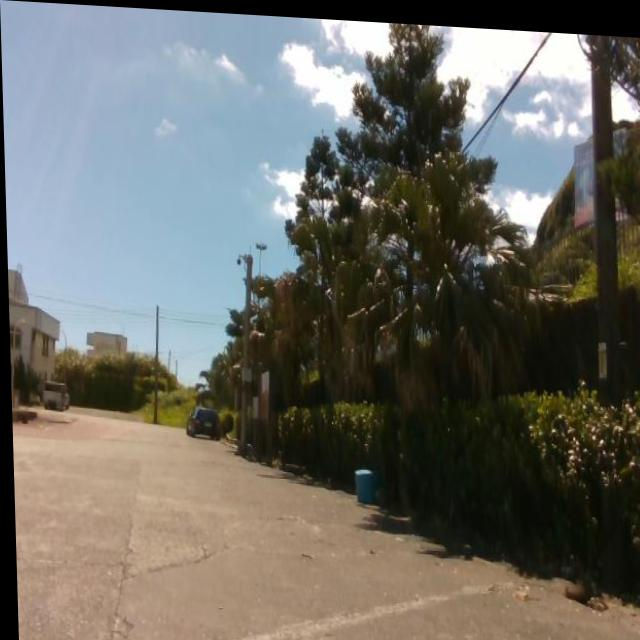pollute: (348, 462, 378, 503)
